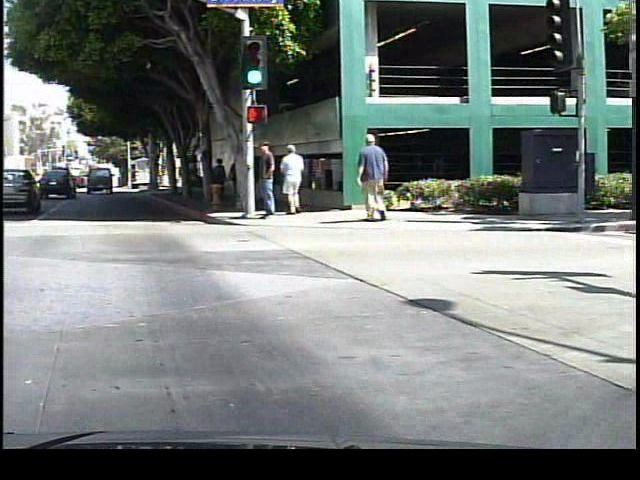person: (351, 130, 393, 221), (252, 137, 282, 227), (275, 141, 306, 215), (212, 155, 228, 202)
